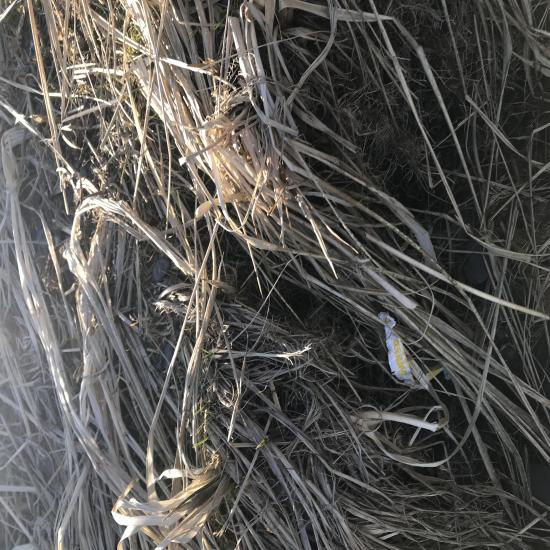Other carton: (59, 160, 217, 363), (160, 254, 263, 385)
